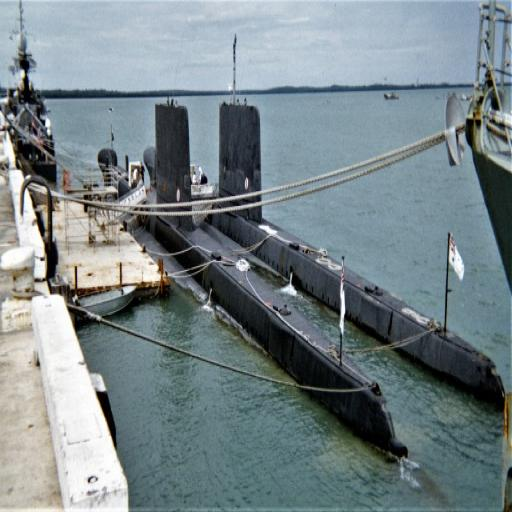submarine: (98, 105, 411, 462), (212, 105, 506, 416)
